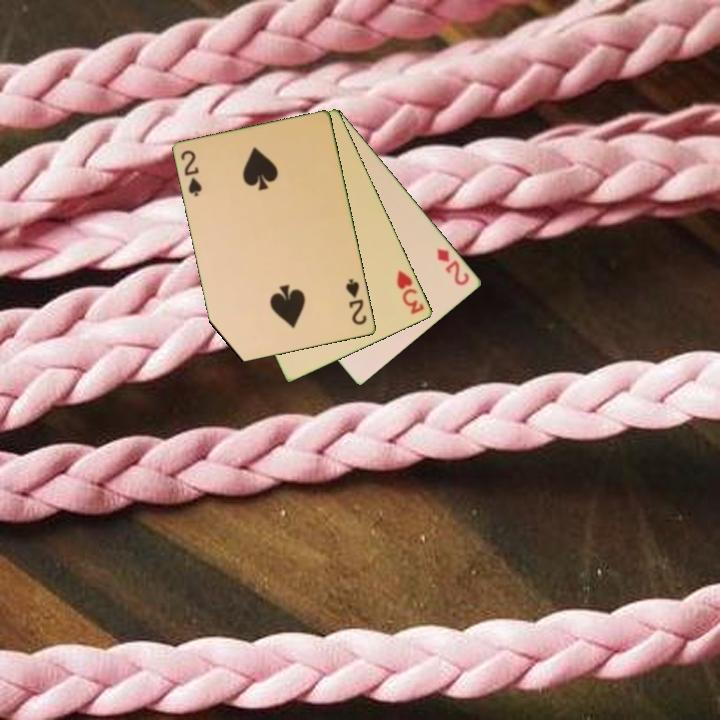2d: (434, 245, 473, 288)
2s: (342, 275, 370, 328), (178, 147, 205, 200)
3h: (393, 267, 427, 318)
